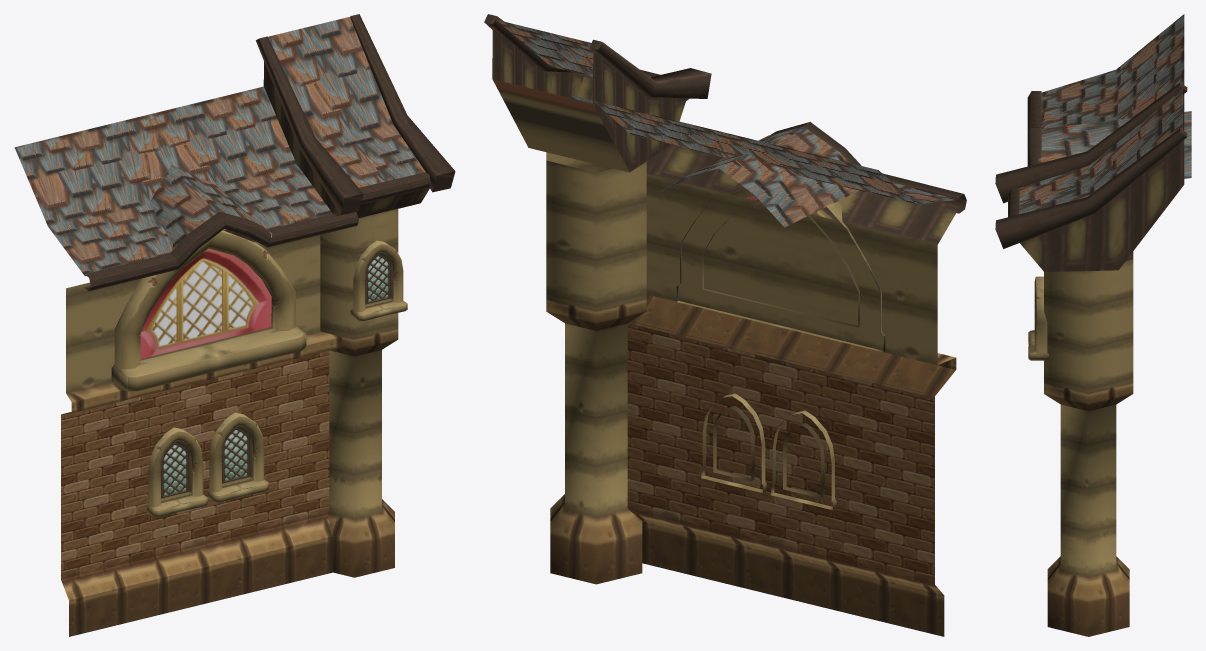
The model's file is external wall3.FBX.
The picture shows the model from 3 angles, left to right: view 1: azimuth 30°, elevation 25°; view 2: azimuth 150°, elevation 25°; view 3: azimuth 270°, elevation 25°; orthographic projection. The views are drawn at different scales.
Parts seen in each view (by area): view 1: external wall3; view 2: external wall3; view 3: external wall3.
Boxes of the visible parts, <box> form: external wall3: <box>14,14,455,636</box>; external wall3: <box>484,14,966,636</box>; external wall3: <box>995,14,1191,636</box>.
Bounding box in the file's own units: 1361 × 1837 × 641.
